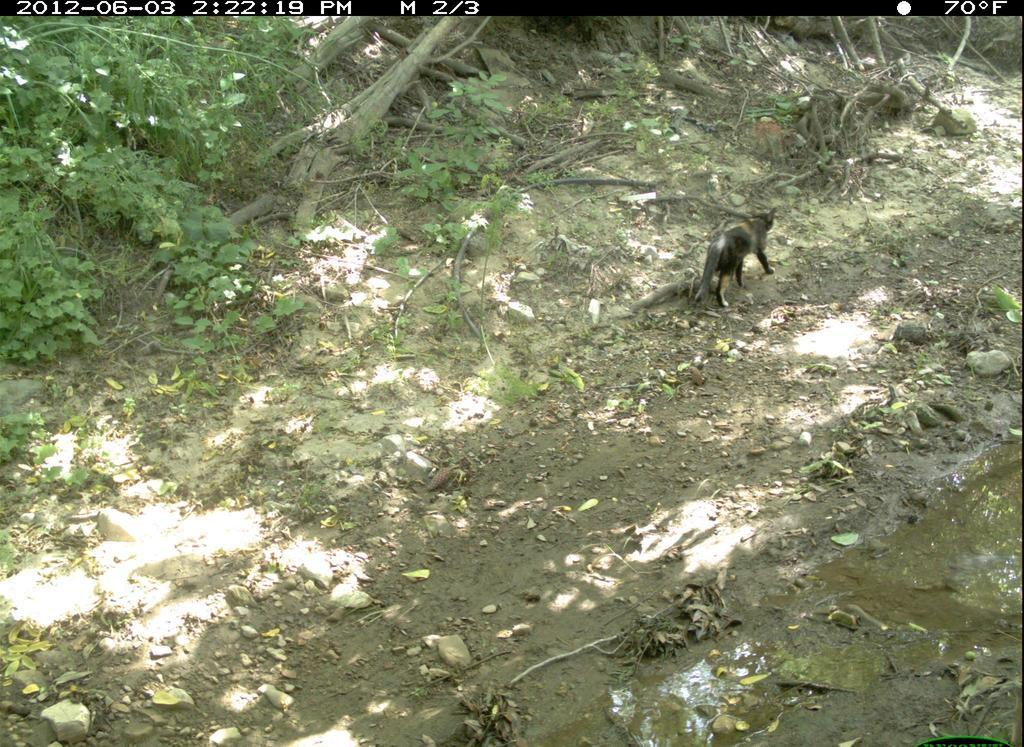cat: (683, 198, 783, 313)
